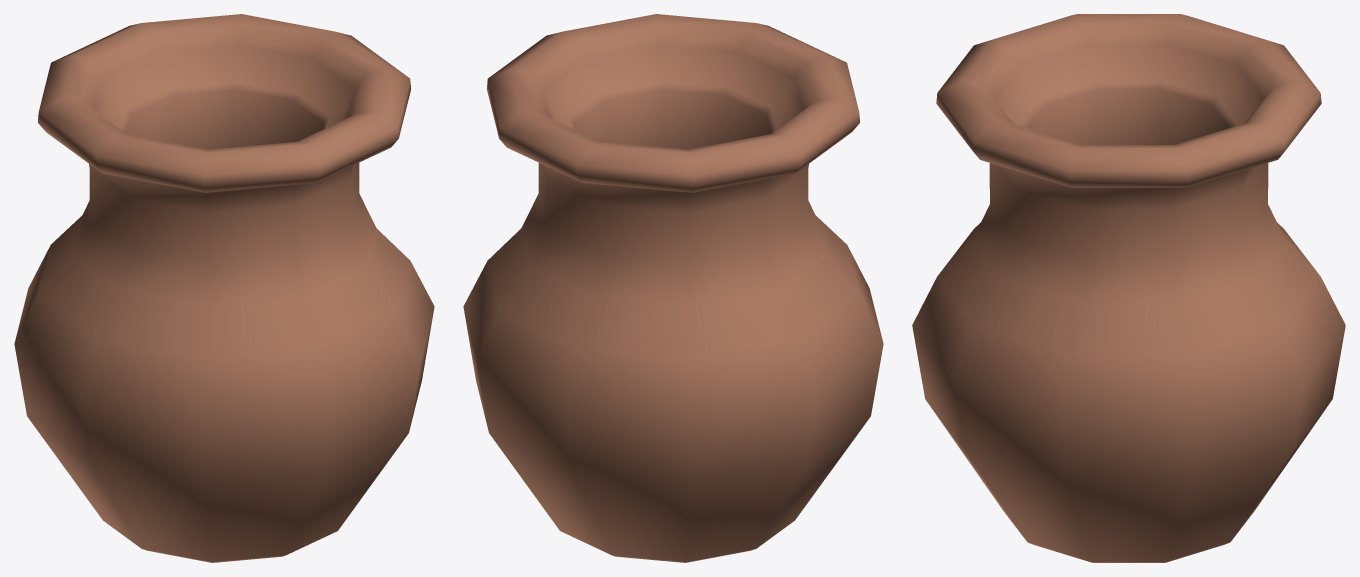
Rendered from G_Vase.fbx.
The picture shows the model from 3 angles, left to right: view 1: azimuth 30°, elevation 25°; view 2: azimuth 150°, elevation 25°; view 3: azimuth 270°, elevation 25°; orthographic projection.
Visible parts, largest first — view 1: Vase; view 2: Vase; view 3: Vase.
Part boxes in pixels (bbox=[...]): Vase: bbox=[14, 14, 434, 562]; Vase: bbox=[463, 14, 883, 562]; Vase: bbox=[912, 14, 1345, 562].
Bounding box in the file's own units: 60.26 × 70.07 × 63.36.
